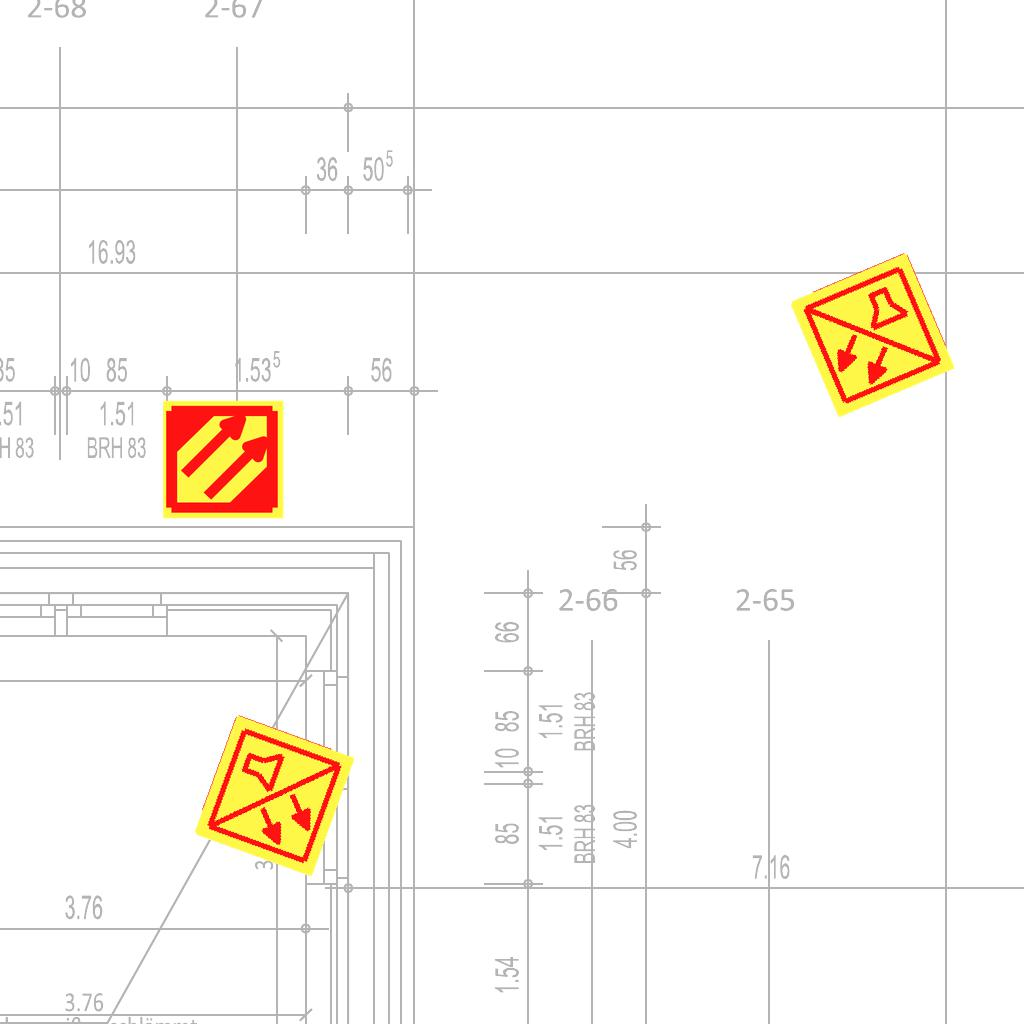ASR_Ansaugrauchmelder: (161, 397, 286, 522)
OKW_Multisensormelder_(Kombination_optischer_Rauch-Kahlenmonoxid_Waerme-Melder): (785, 248, 959, 422), (189, 711, 359, 881)
